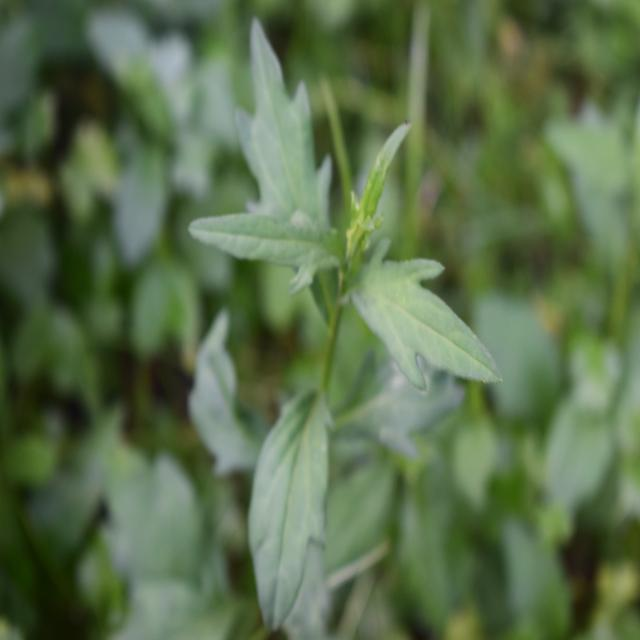Indian aster: (208, 35, 488, 614)
